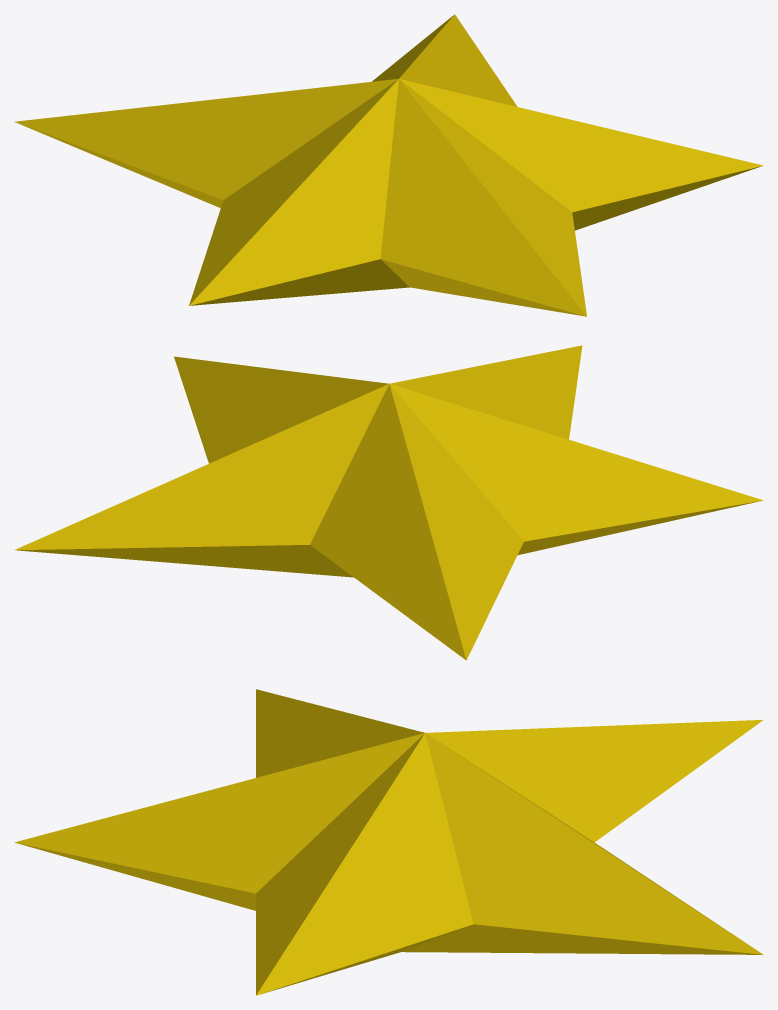
The model's file is Star.fbx.
3 views of the same model, one above another, from view 1: azimuth 30°, elevation 25°; view 2: azimuth 150°, elevation 25°; view 3: azimuth 270°, elevation 25° (orthographic). The views are drawn at different scales.
Visible parts, largest first — view 1: Plane; view 2: Plane; view 3: Plane.
Boxes of the visible parts, <box> form: Plane: <box>14,14,763,316</box>; Plane: <box>14,345,763,660</box>; Plane: <box>14,689,763,995</box>.
Bounding box in the file's own units: 300 × 100 × 310.
